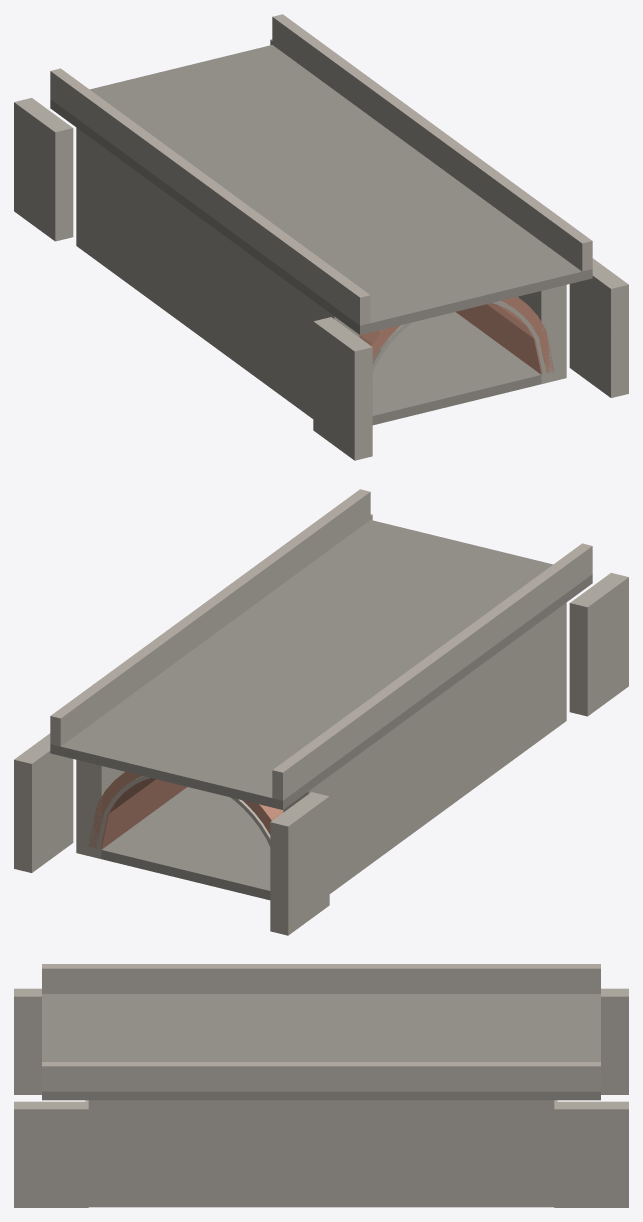
Rendered from cp_green_gap_arch.glb.
3 renders of one model, top to bottom at view 1: azimuth 30°, elevation 25°; view 2: azimuth 150°, elevation 25°; view 3: azimuth 270°, elevation 25°, orthographic. The views are drawn at different scales.
Parts seen in each view (by area): view 1: GreenGapArch; view 2: GreenGapArch; view 3: GreenGapArch.
Boxes of the visible parts, x1=… form: GreenGapArch: x1=14, y1=14, x2=628, y2=460; GreenGapArch: x1=14, y1=489, x2=628, y2=935; GreenGapArch: x1=14, y1=964, x2=628, y2=1207.
Bounding box in the file's own units: 9.2 × 5 × 19.8.
